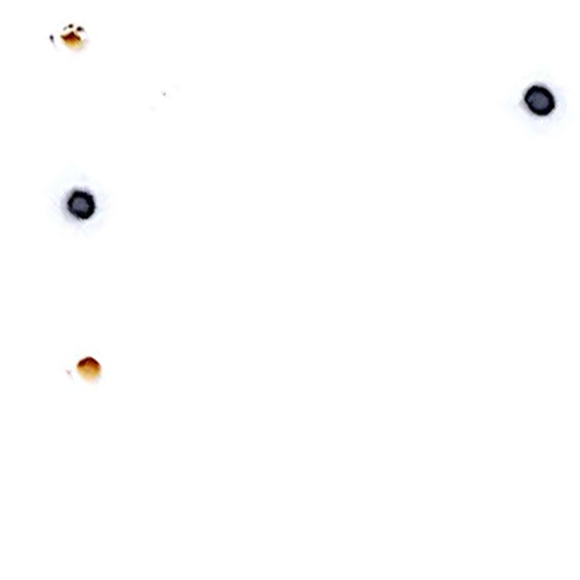cancer: (40, 154, 134, 240), (499, 65, 578, 138)
normal: (61, 342, 133, 406), (33, 18, 112, 65)
